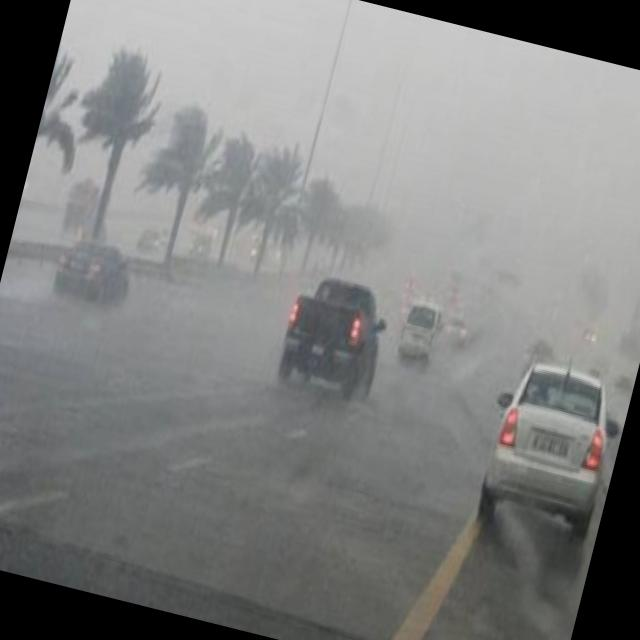car: (472, 352, 626, 545), (271, 267, 397, 406), (50, 230, 139, 310), (393, 297, 444, 366), (440, 311, 470, 346), (138, 221, 163, 249), (188, 233, 212, 257)
